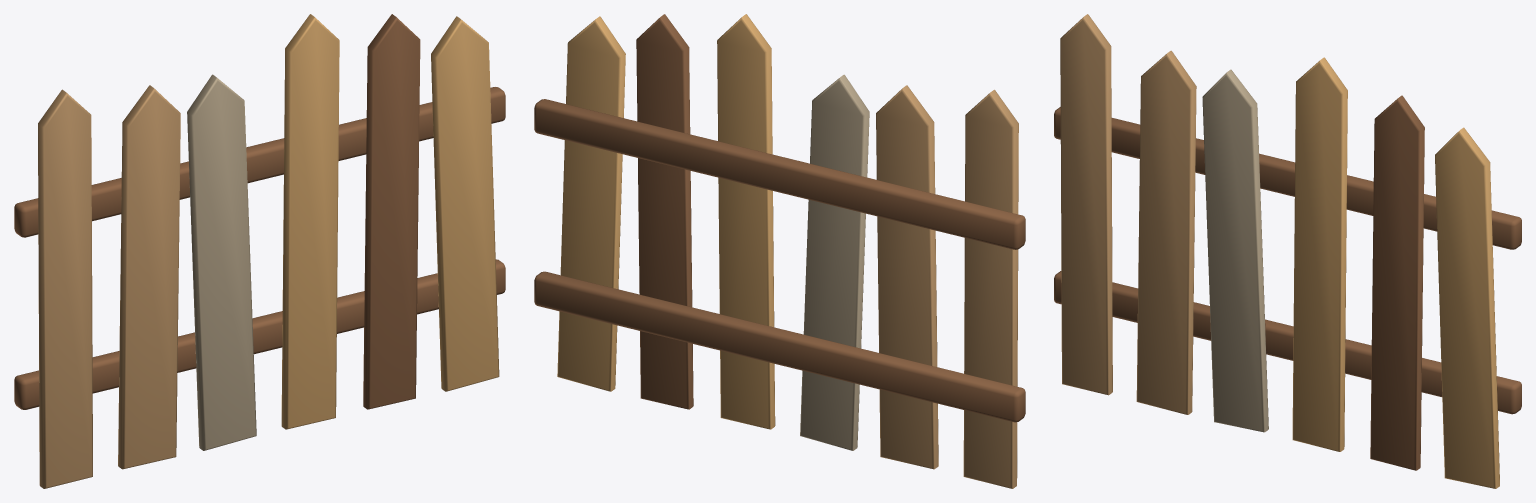
File: fence-picket-run.glb
The picture shows the model from 3 angles, left to right: view 1: azimuth 30°, elevation 25°; view 2: azimuth 150°, elevation 25°; view 3: azimuth 330°, elevation 25°; orthographic projection. The views are drawn at different scales.
Visible parts, largest first — view 1: fence; view 2: fence; view 3: fence.
Boxes of the visible parts, box(x1,y1,x2,y2) form: fence: box(14, 14, 505, 488); fence: box(534, 14, 1025, 488); fence: box(1054, 14, 1521, 488).
Bounding box in the file's own units: 1 × 0.8022 × 0.0585.
